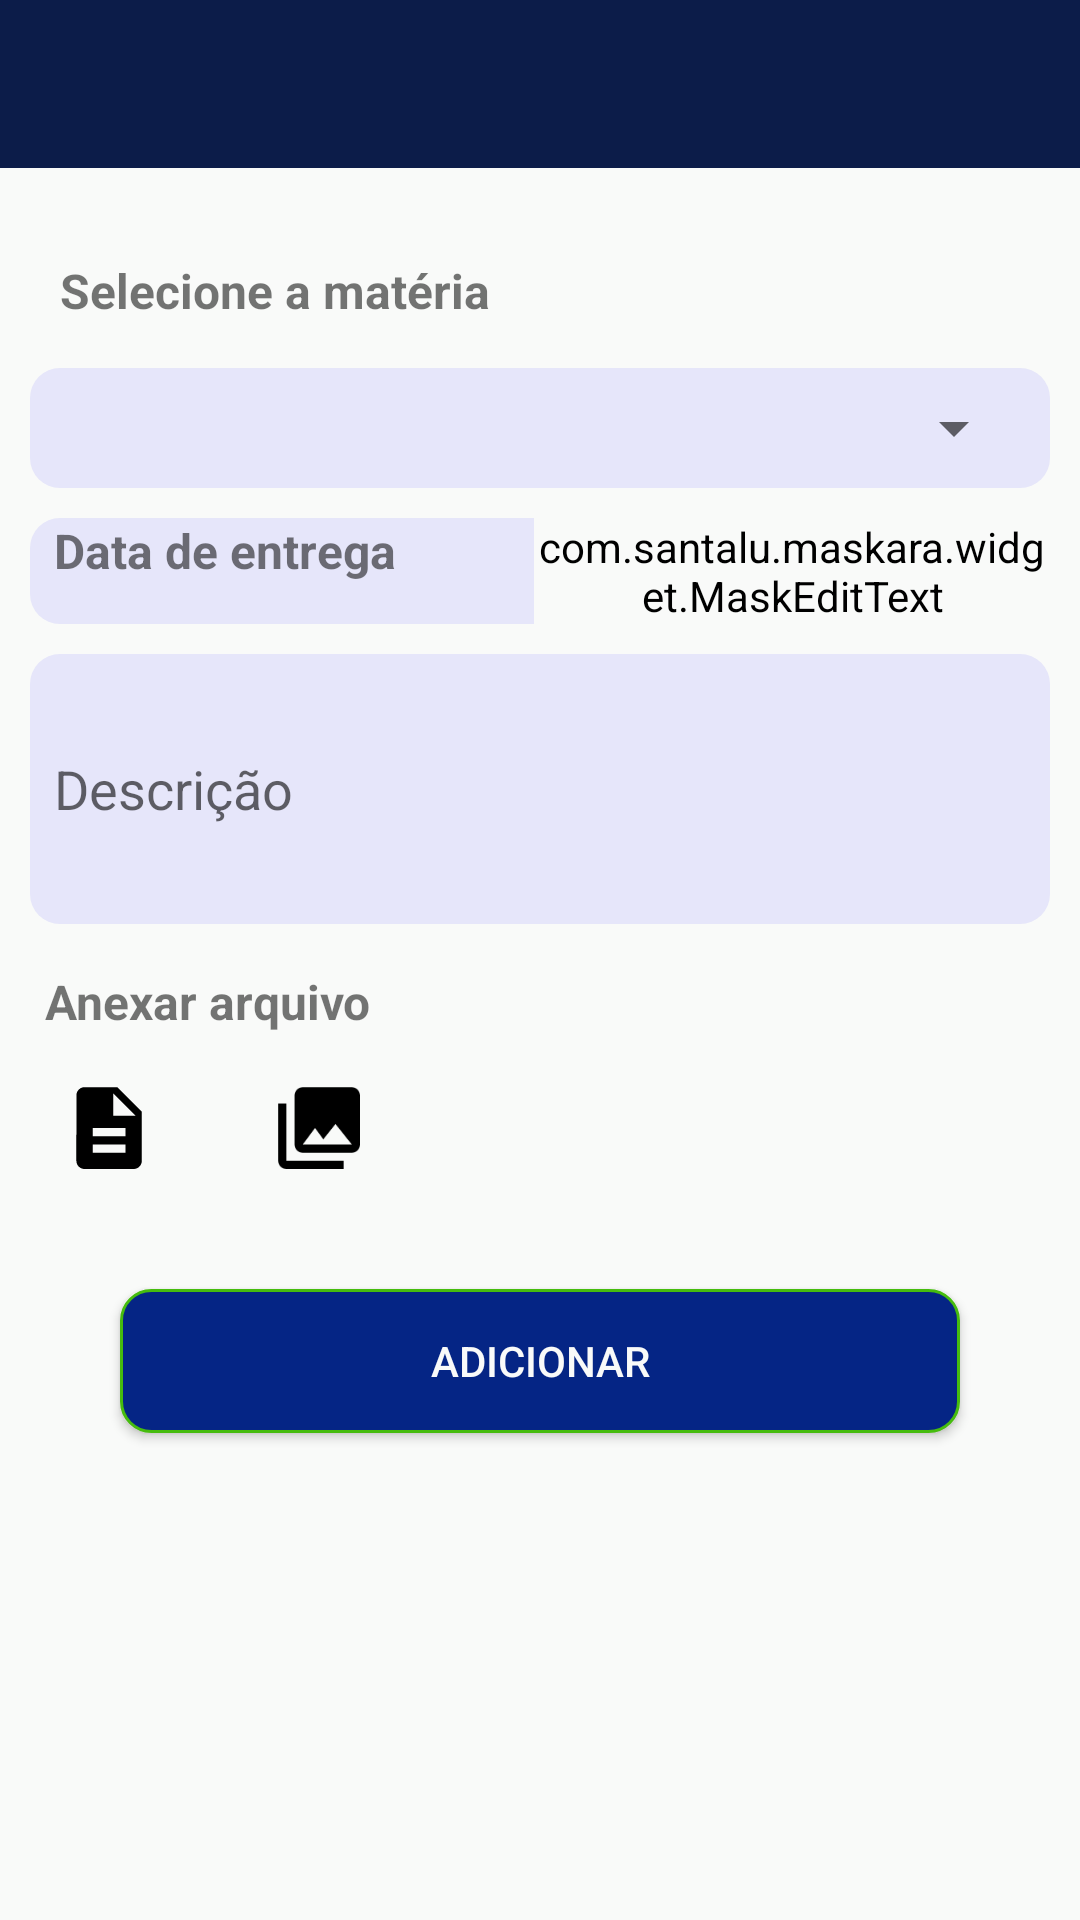

Icon click points for this 1080w x 1920h phone screenshot, format (x=x, y=y):
description: (x=109, y=1128)
foto: (x=319, y=1128)
